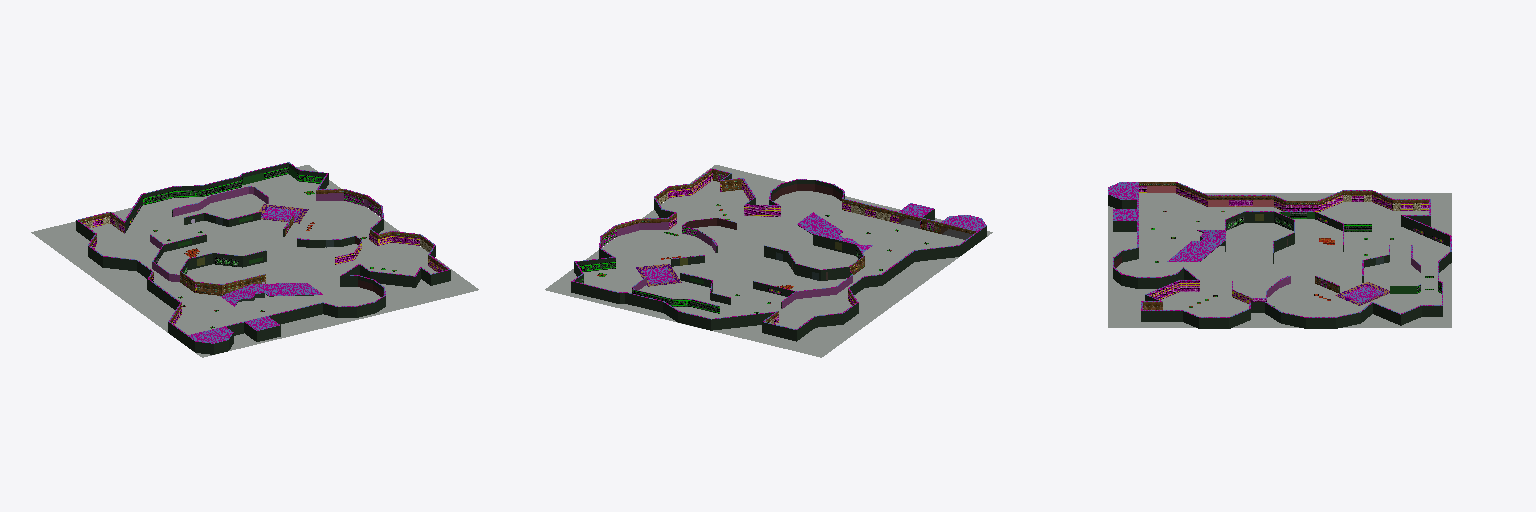
3 renders of one model, left to right at view 1: azimuth 30°, elevation 25°; view 2: azimuth 150°, elevation 25°; view 3: azimuth 270°, elevation 25°, orthographic.
Visible parts, largest first — view 1: Final-SKP--Road_0x00_0, Final-SKP--Wall_0x0C_6, Final-SKP--Road_0x00_2, Final-SKP--Wall_0x0C_1, Final-SKP--Wall_0x0C_2, Final-SKP--Wall_0x0C_4, Final-SKP--Wall_0x0C_10; view 2: Final-SKP--Road_0x00_0, Final-SKP--Wall_0x0C_6, Final-SKP--Road_0x00_2, Final-SKP--Wall_0x0C_1, Final-SKP--Wall_0x0C_2, Final-SKP--Wall_0x0C_4, Final-SKP--Wall_0x0C_7; view 3: Final-SKP--Road_0x00_0, Final-SKP--Wall_0x0C_6, Final-SKP--Road_0x00_2, Final-SKP--Wall_0x0C_4, Final-SKP--Wall_0x0C_1.
Part boxes in pixels (x1,y1,x2,y2): Final-SKP--Road_0x00_0: (31, 165, 478, 357); Final-SKP--Wall_0x0C_6: (76, 163, 450, 354); Final-SKP--Road_0x00_2: (77, 162, 449, 343); Final-SKP--Wall_0x0C_1: (79, 189, 447, 322); Final-SKP--Wall_0x0C_2: (150, 187, 381, 281); Final-SKP--Wall_0x0C_4: (83, 216, 444, 324); Final-SKP--Wall_0x0C_10: (153, 167, 298, 216); Final-SKP--Road_0x00_0: (545, 165, 992, 357); Final-SKP--Wall_0x0C_6: (571, 174, 986, 341); Final-SKP--Road_0x00_2: (571, 168, 986, 329); Final-SKP--Wall_0x0C_1: (600, 169, 975, 322); Final-SKP--Wall_0x0C_2: (602, 222, 852, 308); Final-SKP--Wall_0x0C_4: (668, 173, 898, 324); Final-SKP--Wall_0x0C_7: (683, 184, 842, 229); Final-SKP--Road_0x00_0: (1108, 193, 1451, 327); Final-SKP--Wall_0x0C_6: (1108, 195, 1451, 328); Final-SKP--Road_0x00_2: (1108, 182, 1451, 317); Final-SKP--Wall_0x0C_4: (1139, 186, 1428, 301); Final-SKP--Wall_0x0C_1: (1139, 182, 1428, 309).
Size of the model in its own units: 30252 by 1296 by 32172.
Materials: 32 (18 with a texture image).